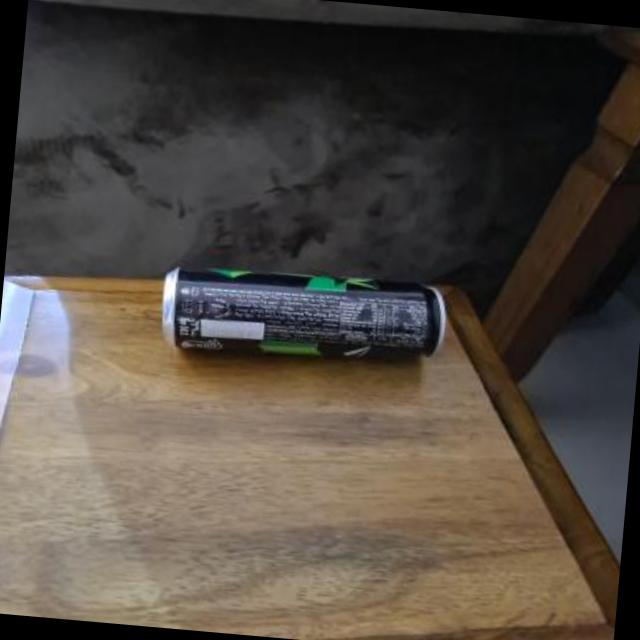metal: (164, 266, 447, 353)
